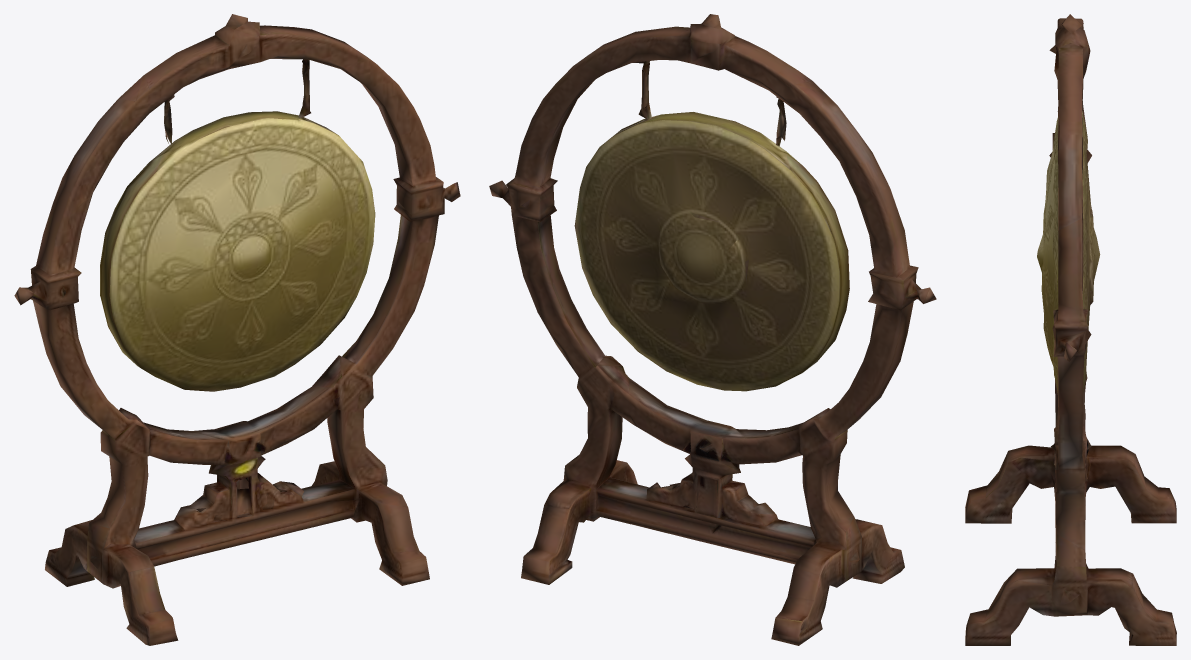
File: Brass Gong_final.glb
The picture shows the model from 3 angles, left to right: view 1: azimuth 30°, elevation 25°; view 2: azimuth 150°, elevation 25°; view 3: azimuth 270°, elevation 25°; orthographic projection.
Parts seen in each view (by area): view 1: Mesh_0; view 2: Mesh_0; view 3: Mesh_0.
Boxes of the visible parts, bbox=[...] form: Mesh_0: bbox=[14, 14, 460, 645]; Mesh_0: bbox=[489, 14, 936, 645]; Mesh_0: bbox=[965, 14, 1176, 645].
Bounding box in the file's own units: 1.24 × 1.5 × 0.5127.
Materials: 1 (1 with a texture image).
